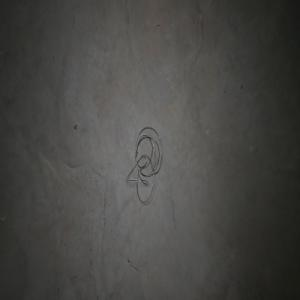Wire: (125, 126, 161, 202)
